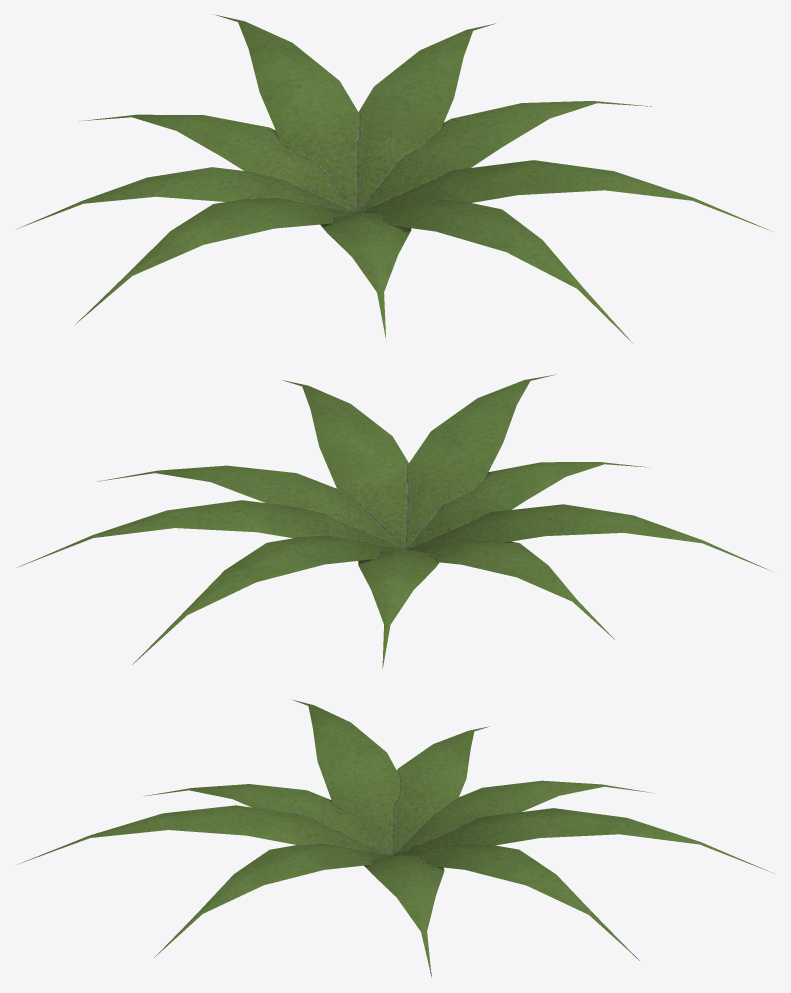
The model's file is samambaia.glb.
3 views of the same model, one above another, from view 1: azimuth 30°, elevation 25°; view 2: azimuth 150°, elevation 25°; view 3: azimuth 270°, elevation 25° (orthographic). The views are drawn at different scales.
Parts seen in each view (by area): view 1: samambaia; view 2: samambaia; view 3: samambaia.
Part boxes in pixels (<box>): samambaia: <box>17,14,772,343</box>; samambaia: <box>19,374,772,668</box>; samambaia: <box>18,699,774,976</box>.
Size of the model in its own units: 1.34 by 0.1257 by 1.55.
Materials: 1 (1 with a texture image).
